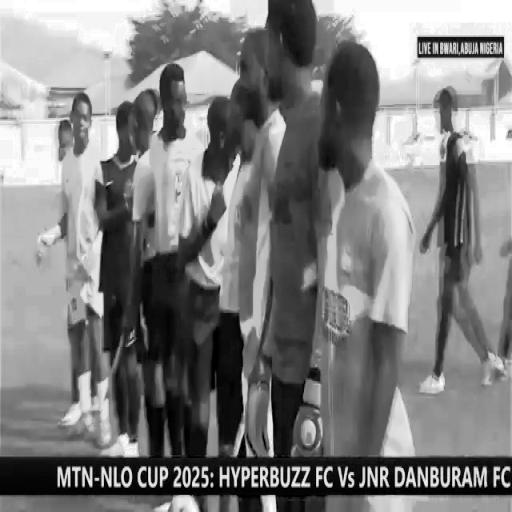keeper1: (255, 2, 331, 460)
keeper2: (48, 101, 107, 453)
referee: (152, 59, 214, 464)
team1: (318, 16, 420, 512)
team2: (427, 81, 496, 398)
